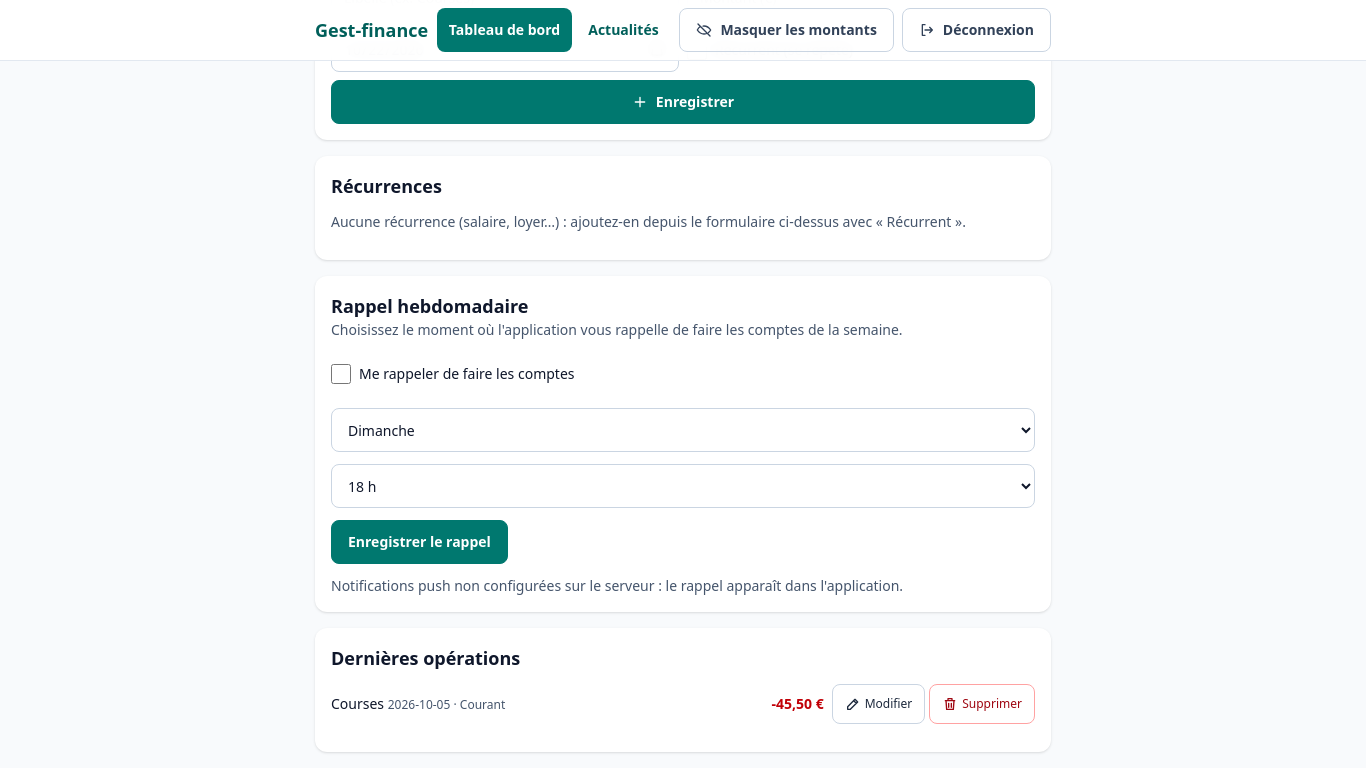
Test: gestion des erreurs et ergonomie › demande confirmation avant de supprimer et n'appelle l'API qu'après accord
(page scrolled)
Click the button with aria-label "Supprimer Courses" at (982, 704), box [929,684,1035,724]
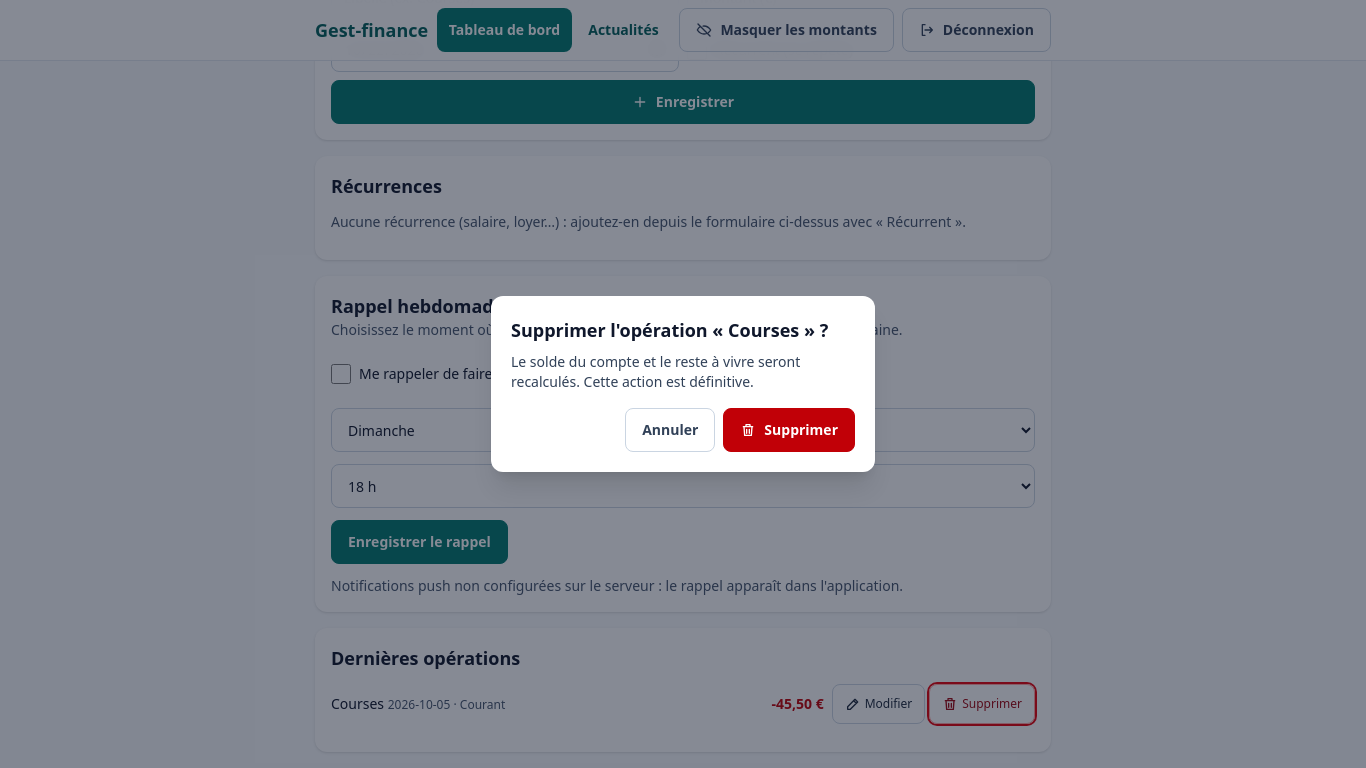
Result: the dialog shows "Supprimer l'opération « Courses » ?" at [511,318,828,342]
Click the button "Annuler" at (670, 430), box [625,408,715,452]
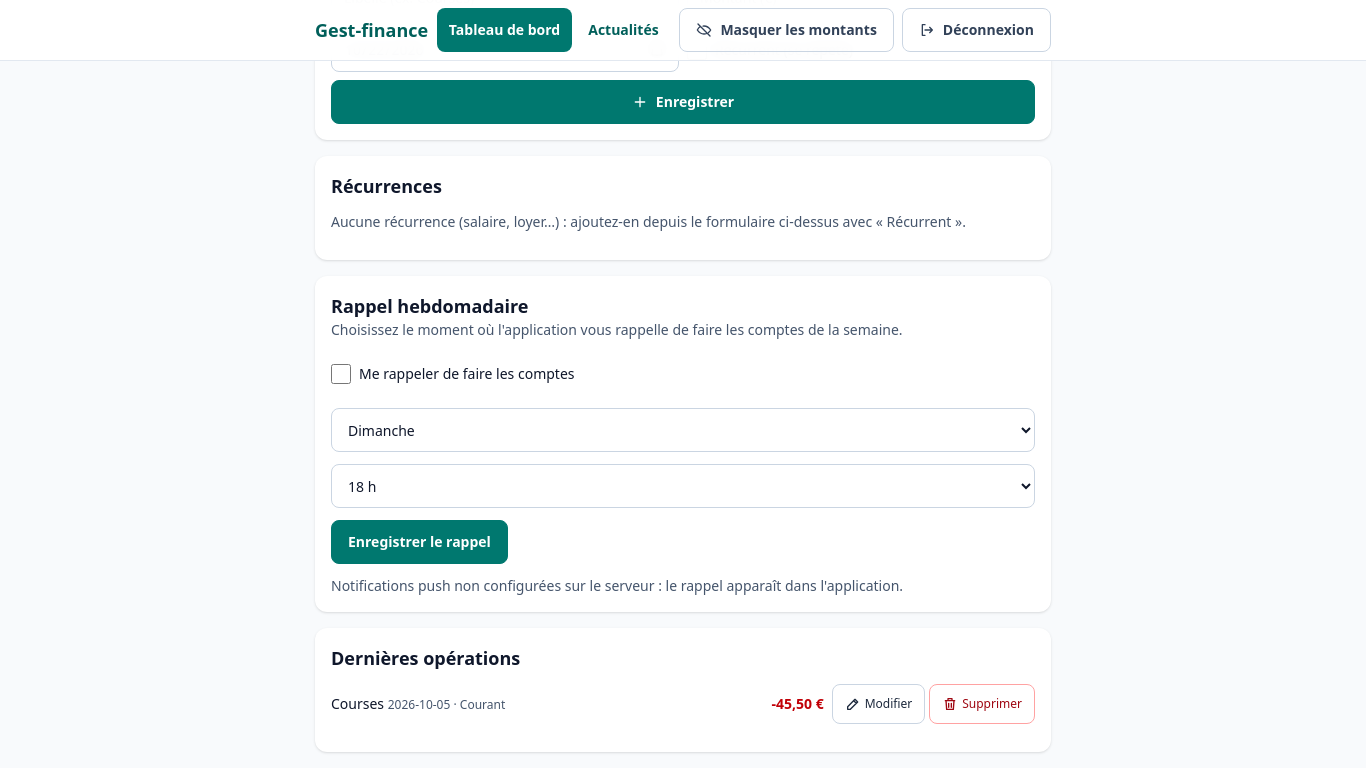
Result: the dialog is gone
Click the button with aria-label "Supprimer Courses" at (982, 704), box [929,684,1035,724]
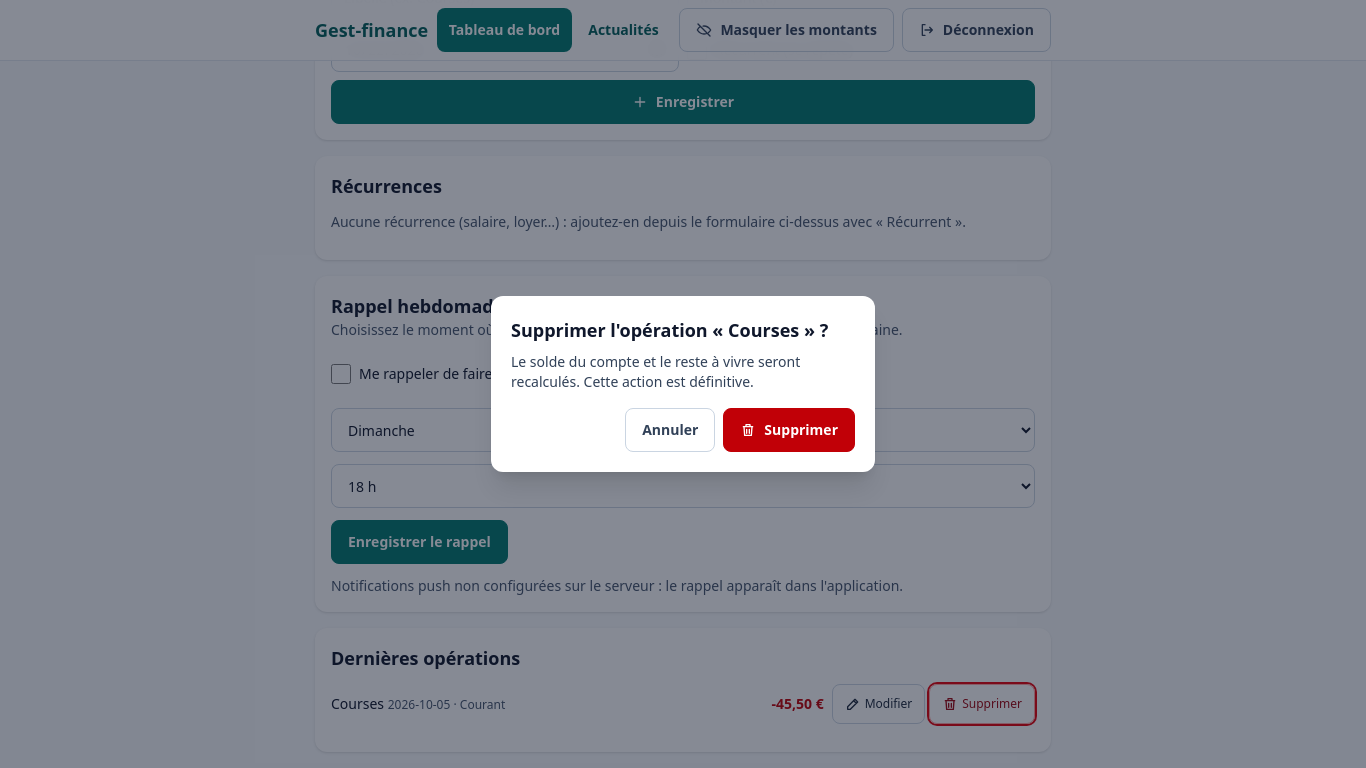
Click the button "Supprimer" at (789, 430), box [723,408,855,452]
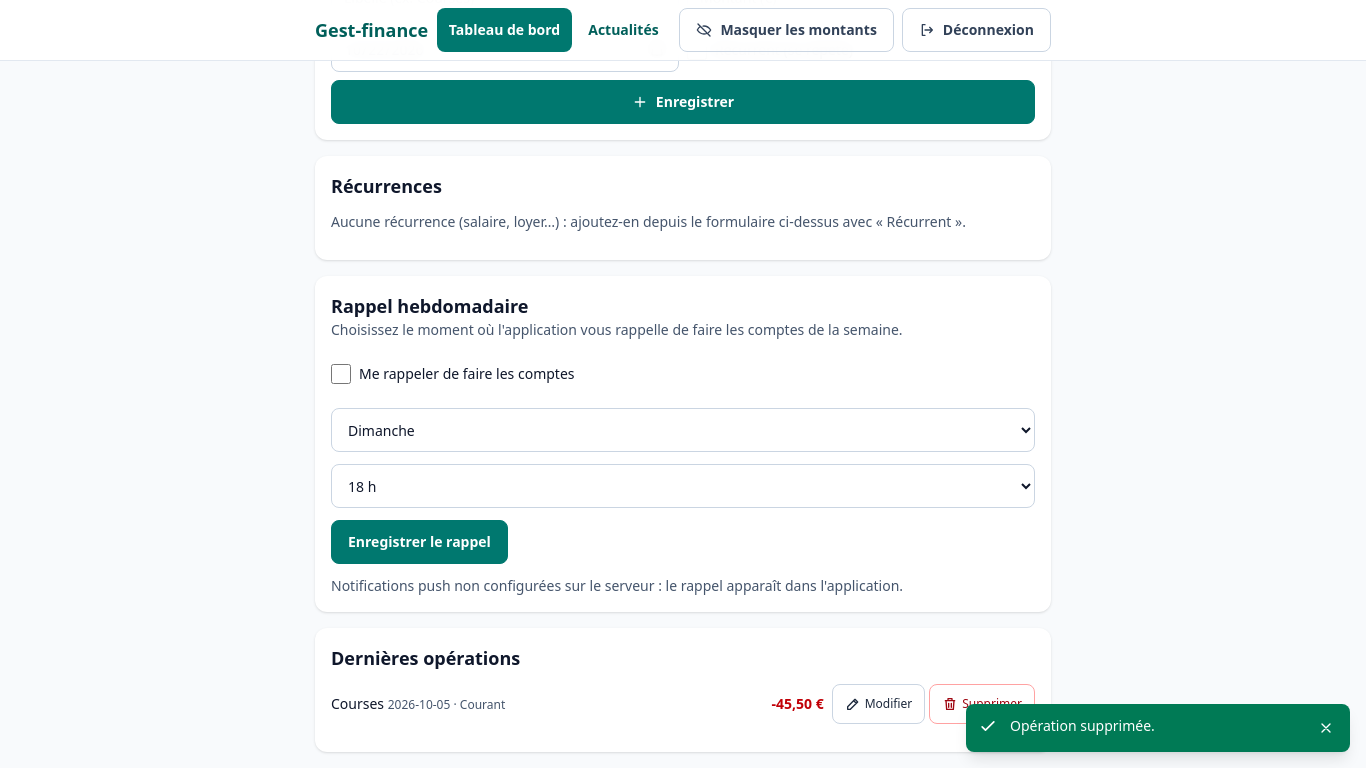
Result: the message reads "Opération supprimée." at [1010,716,1155,735]
